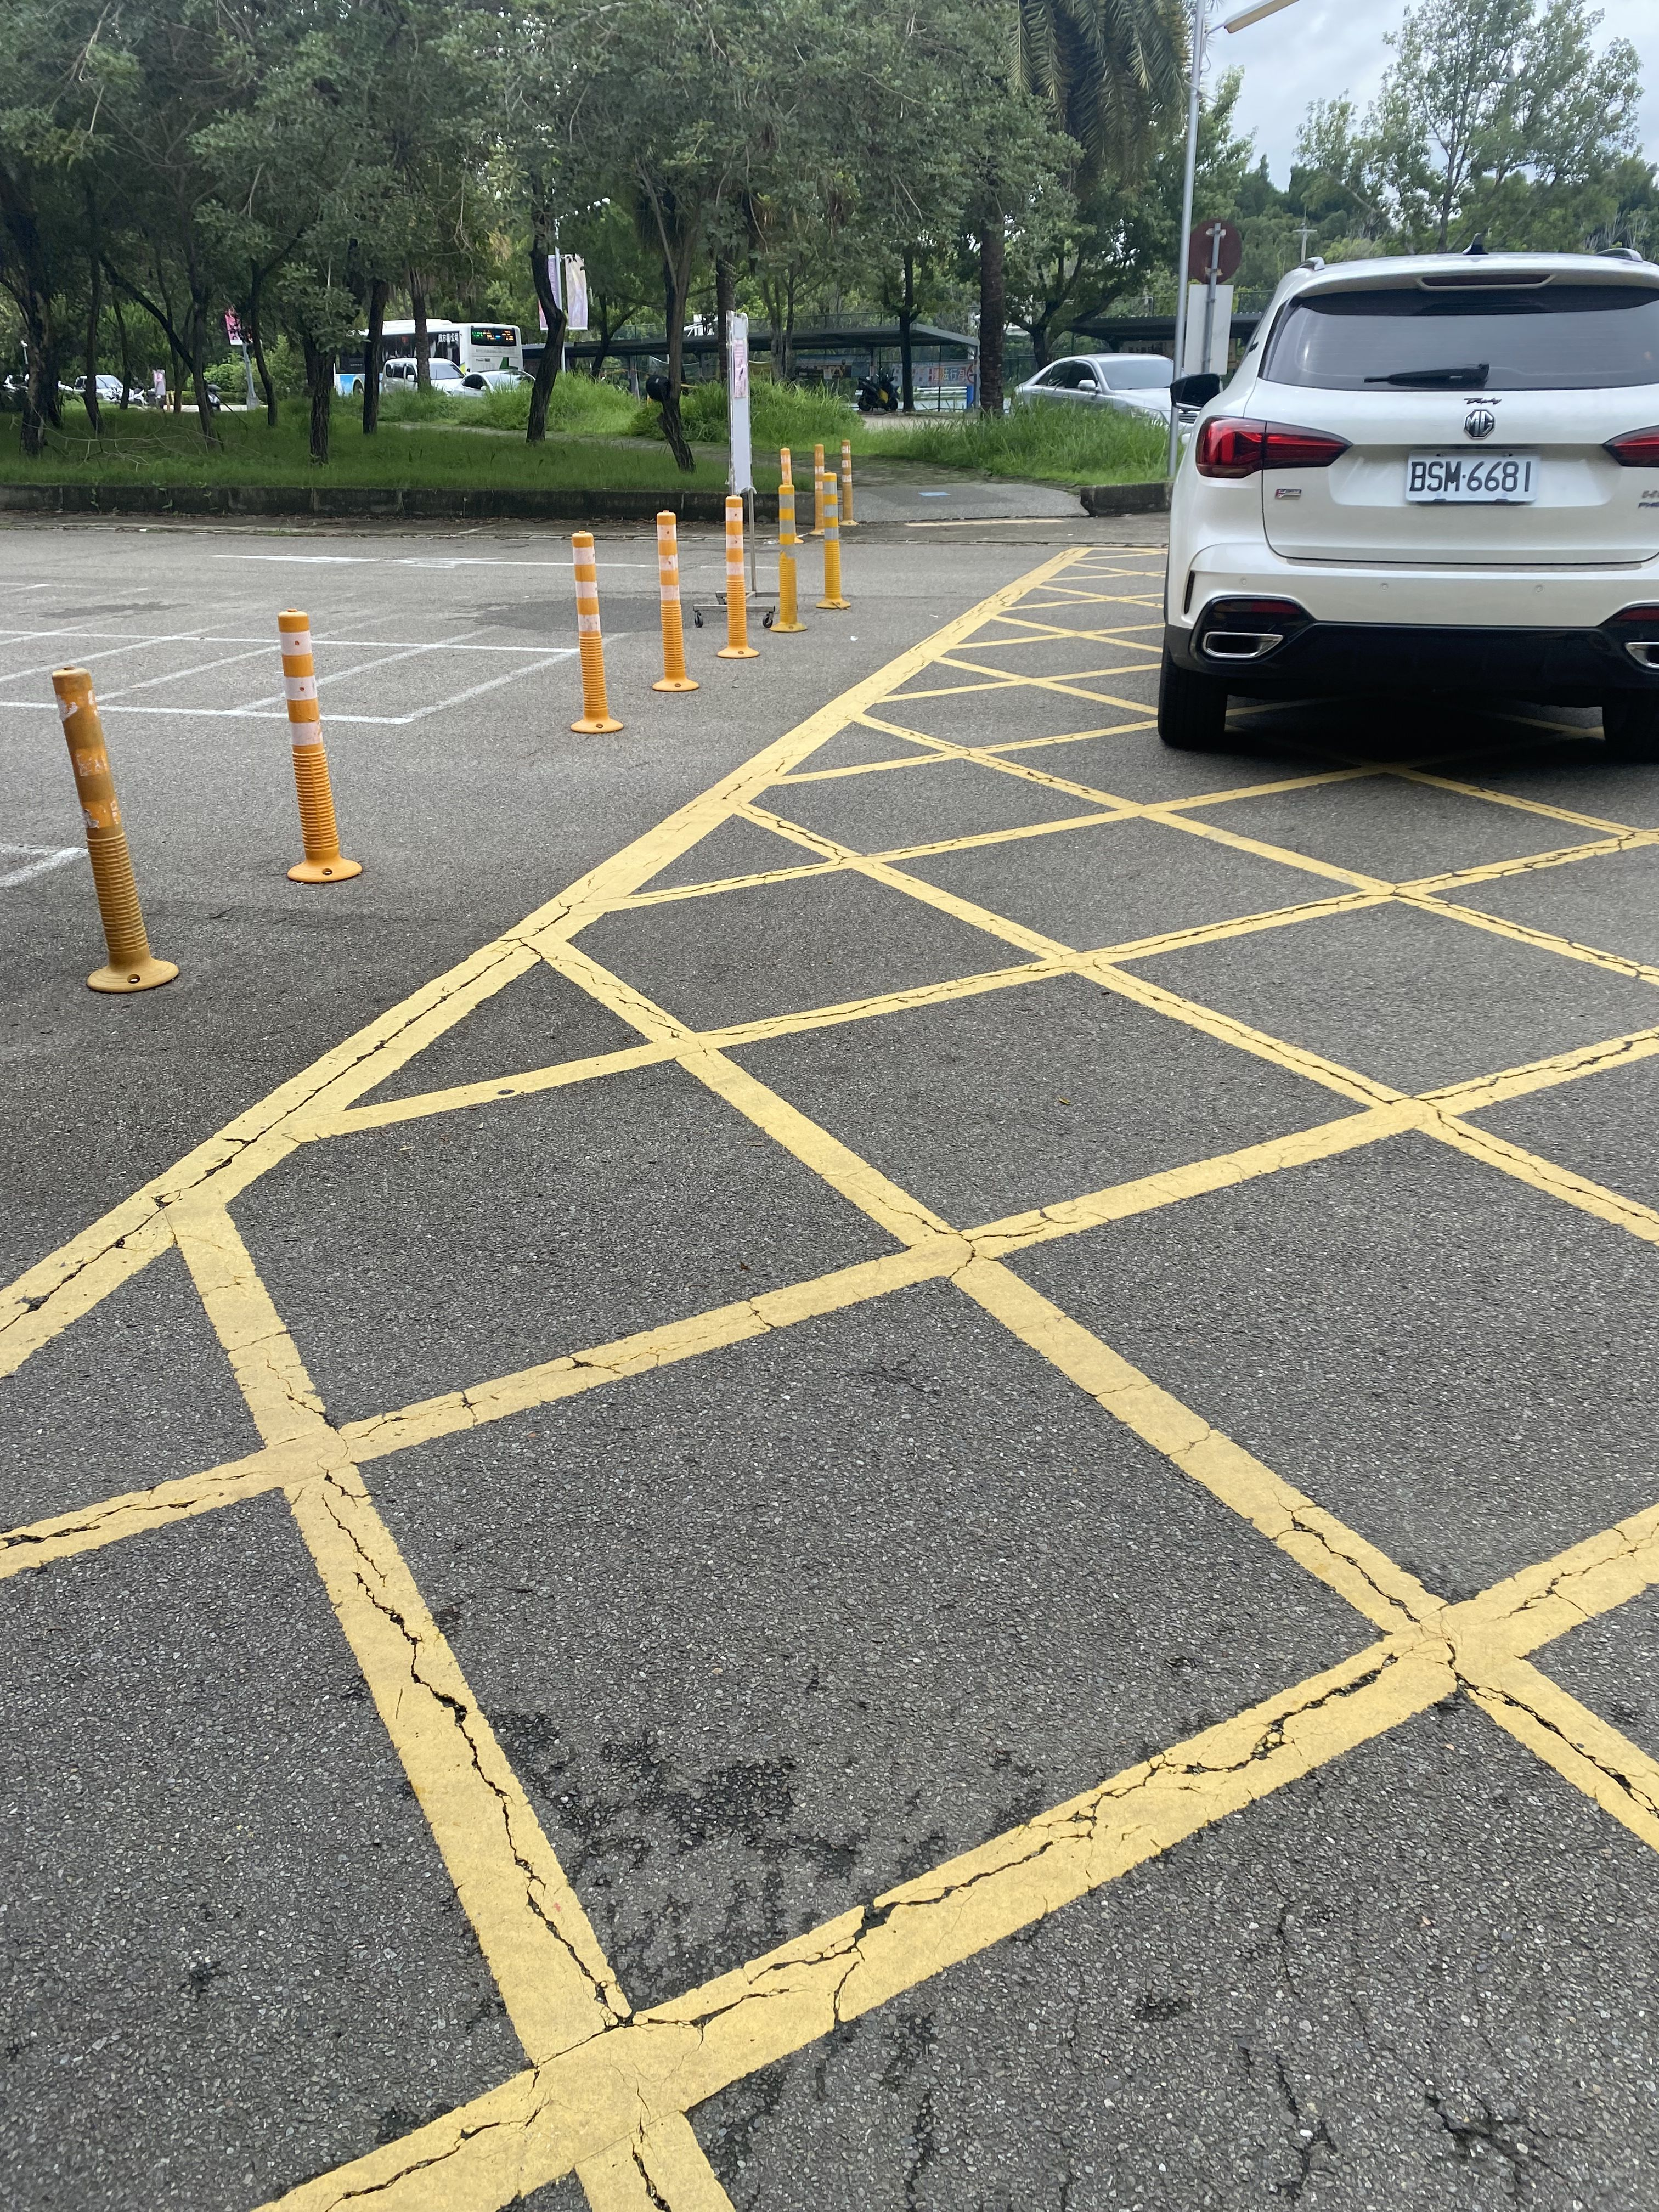sidewalk: (795, 437, 1138, 557)
